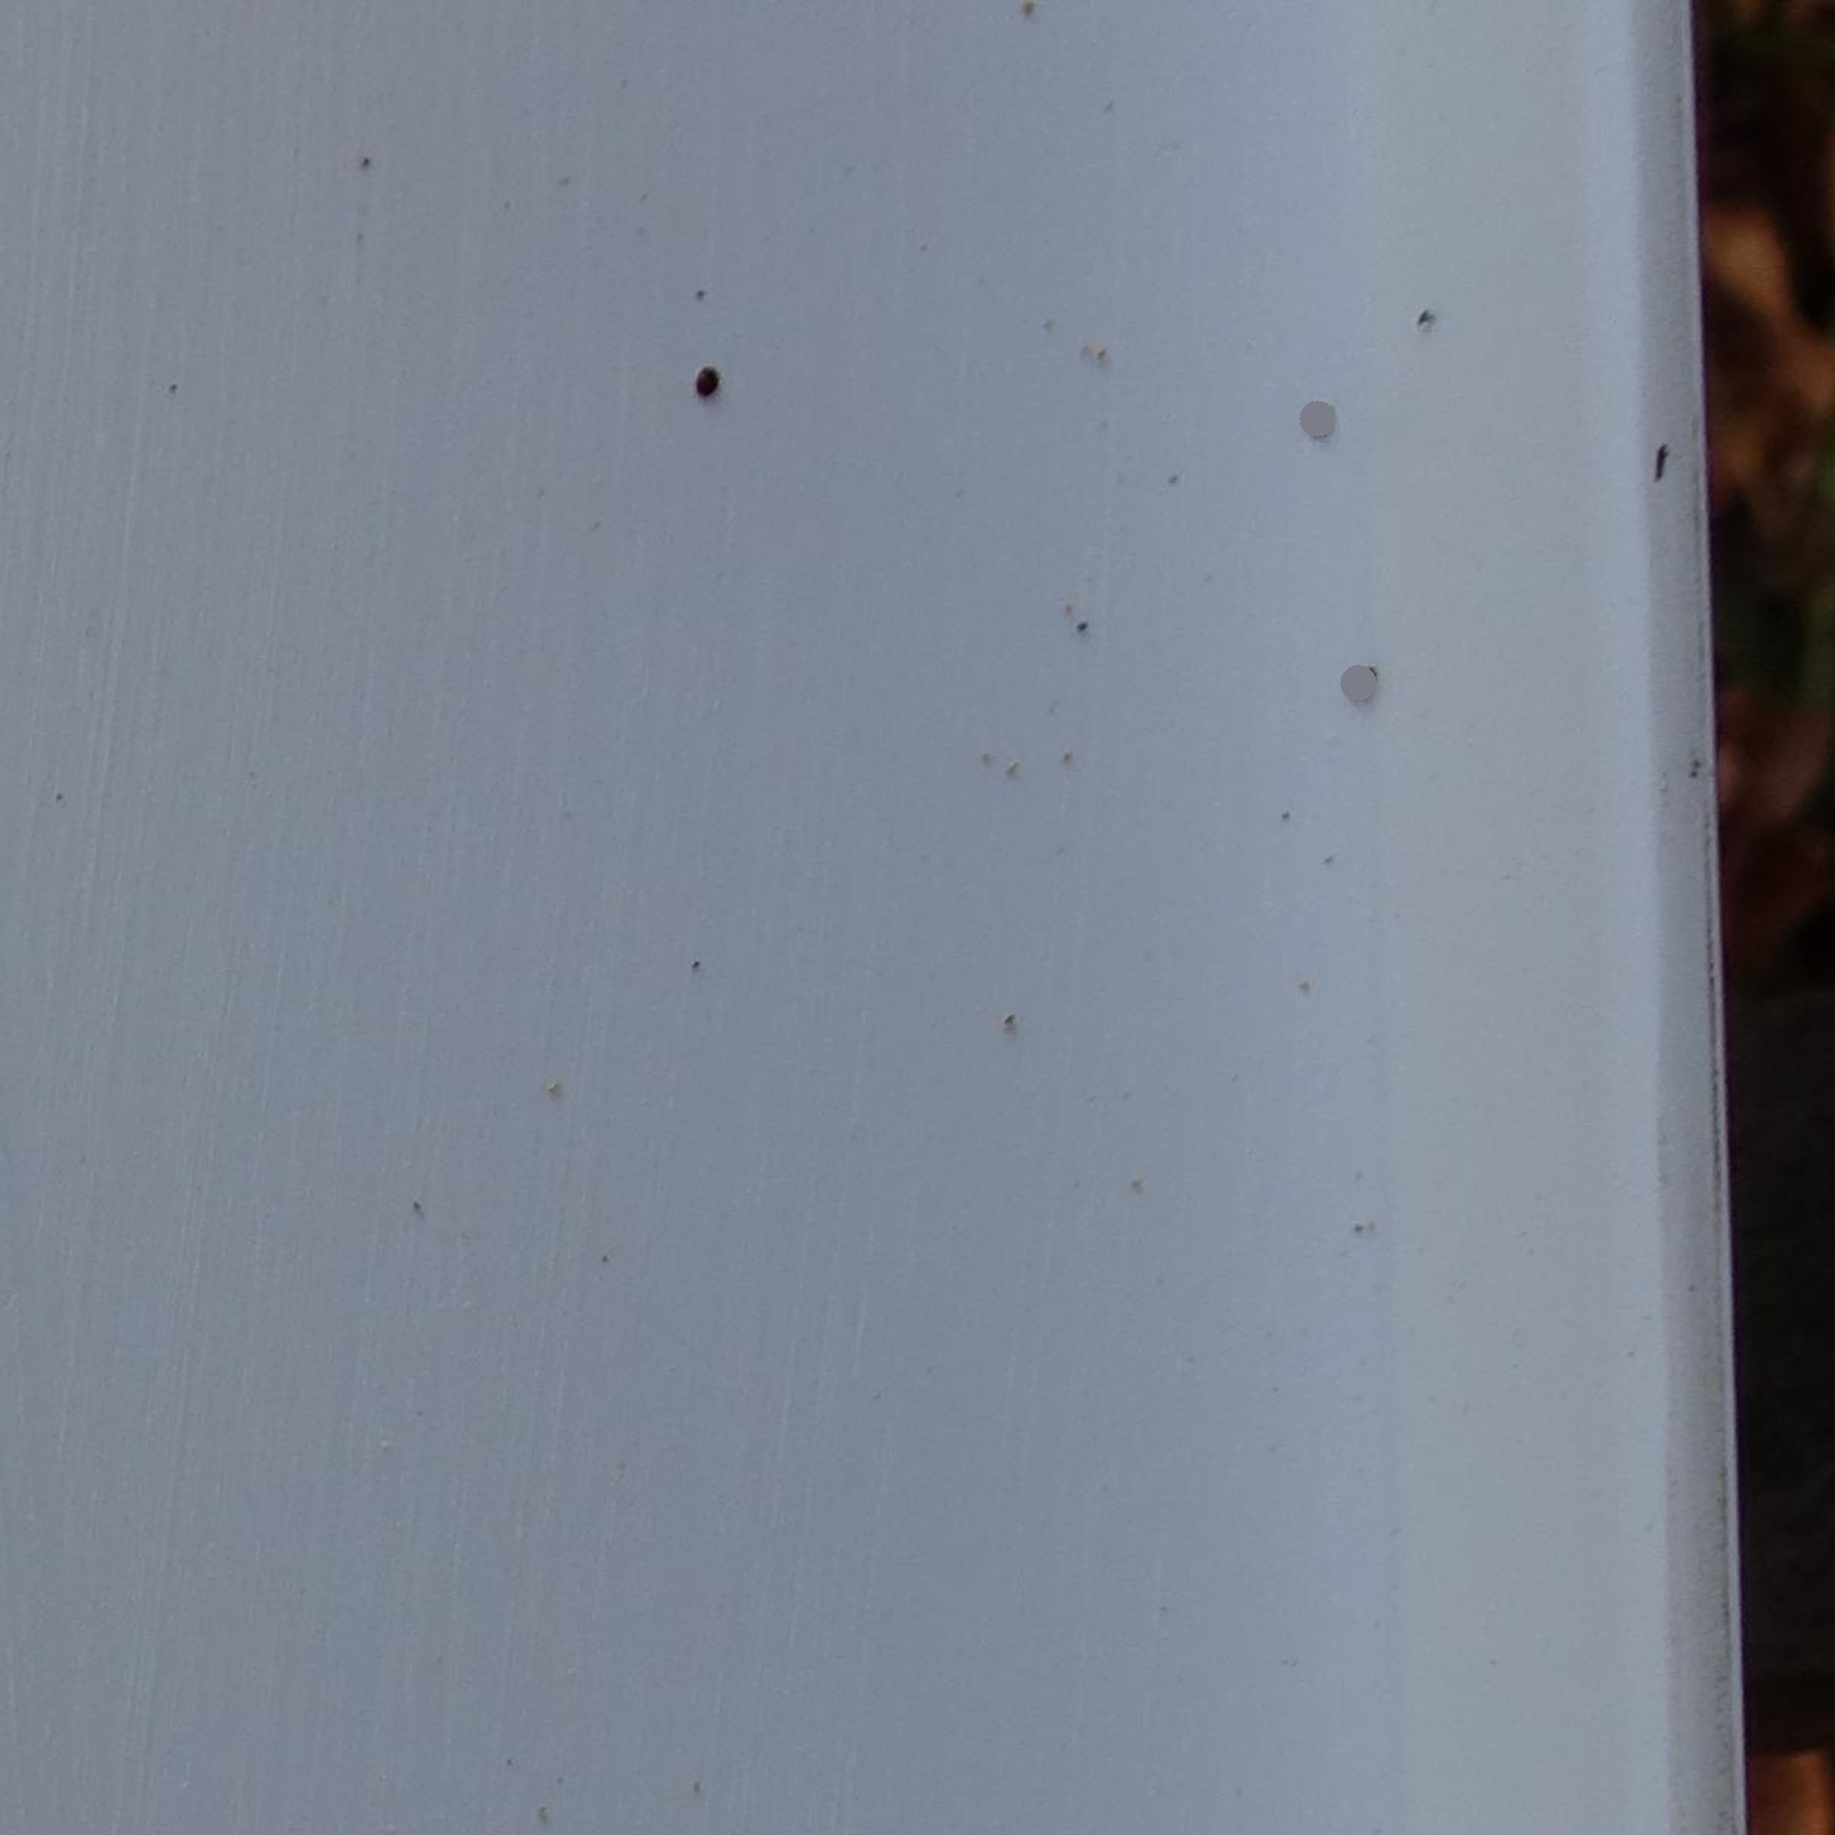Varroa: (689, 370, 718, 402)
